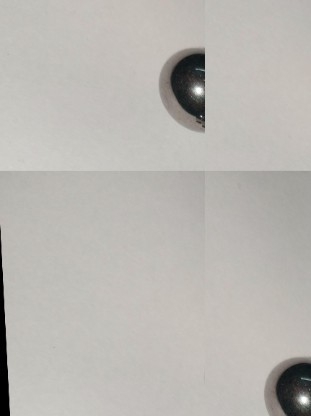ironball: (152, 36, 205, 134), (256, 351, 311, 415)
